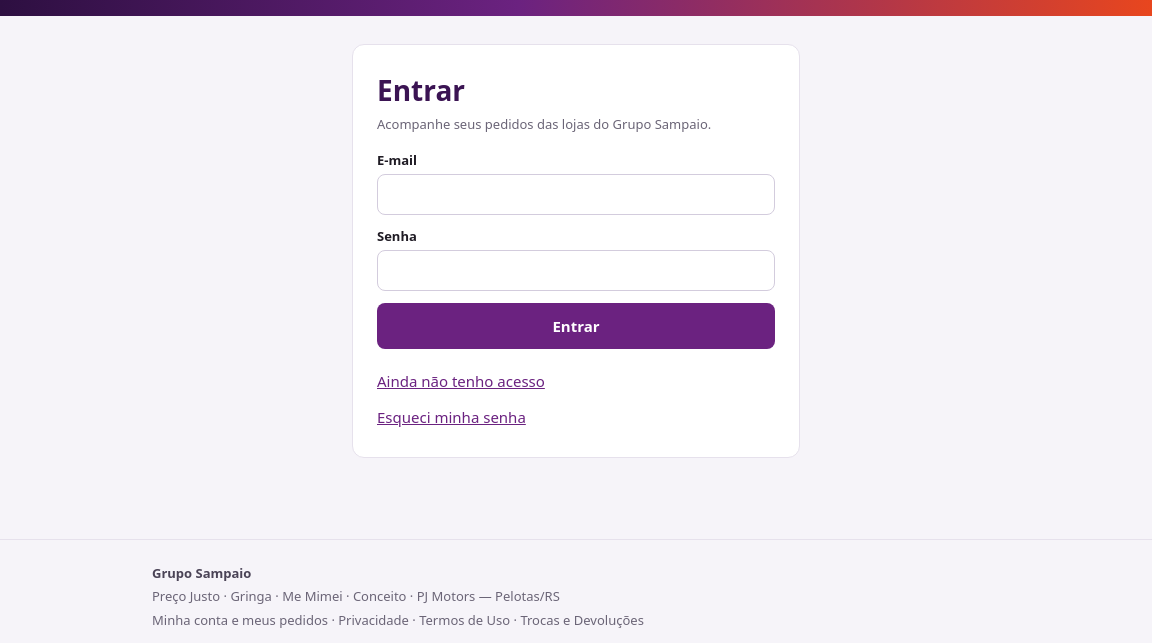
GAP-PRD-192 — criar conta › teto de cadastros da conexão: o 429 aparece com a frase do servidor
Click the button "Ainda não tenho acesso" at (461,381), box [377,365,545,397]
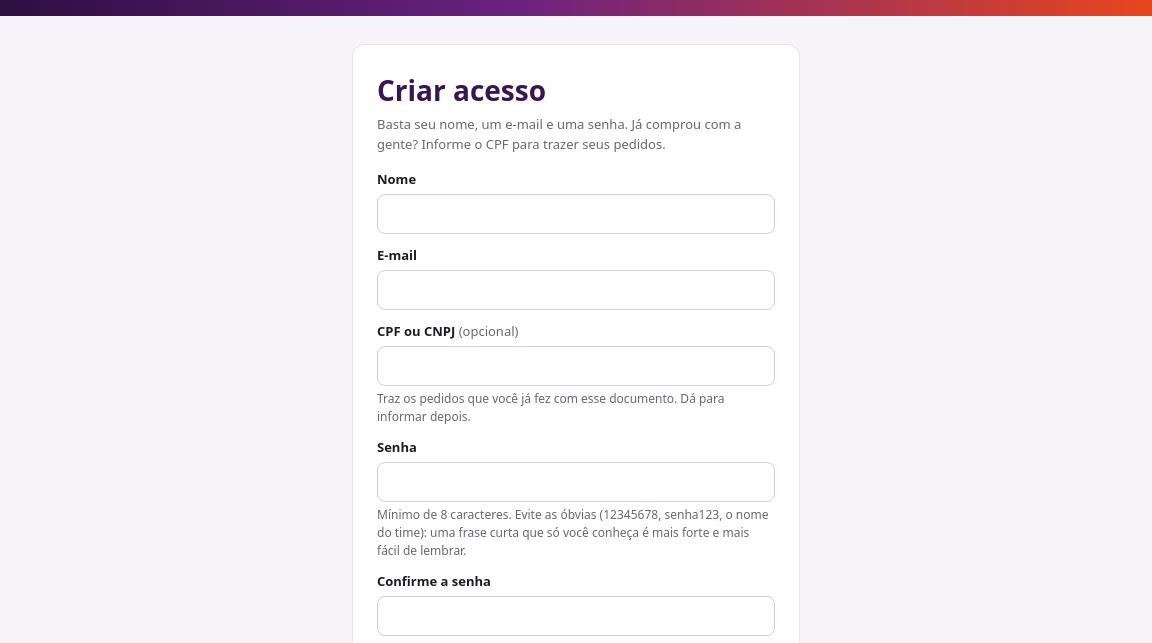
Type "Ana Souza" into the field labelled "Nome" at (576,214), box [377,194,775,234]
Type "ana@exemplo.com" into the field labelled "E-mail" at (576,290), box [377,270,775,310]
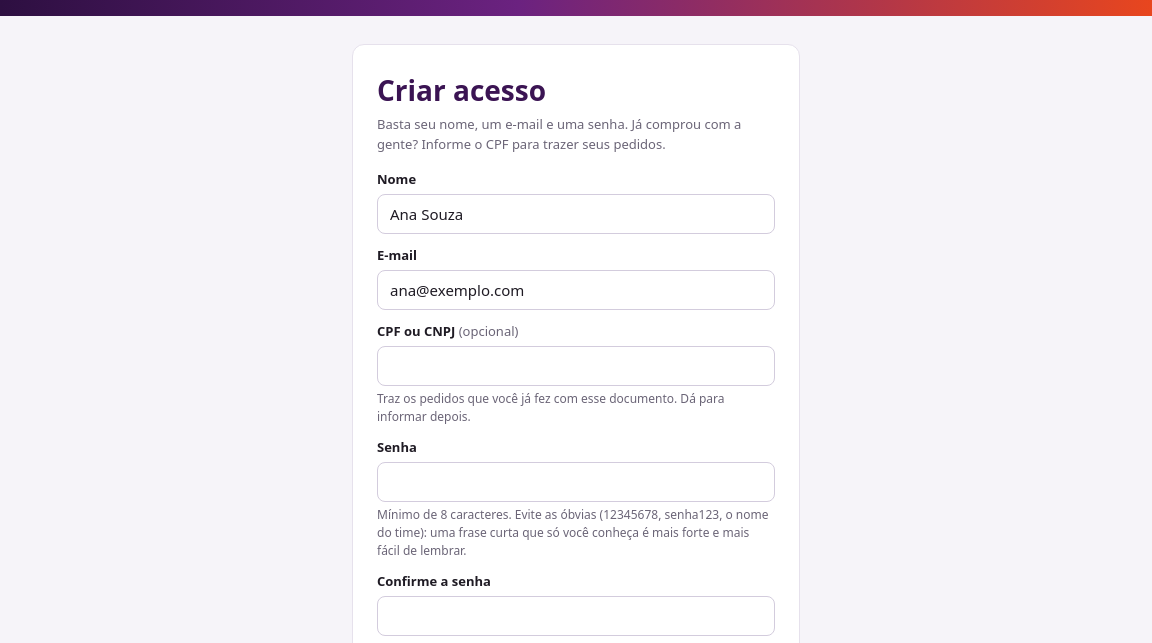
Type "cavalo-bateria-grampo" into the password field labelled "Senha" at (576,482), box [377,462,775,502]
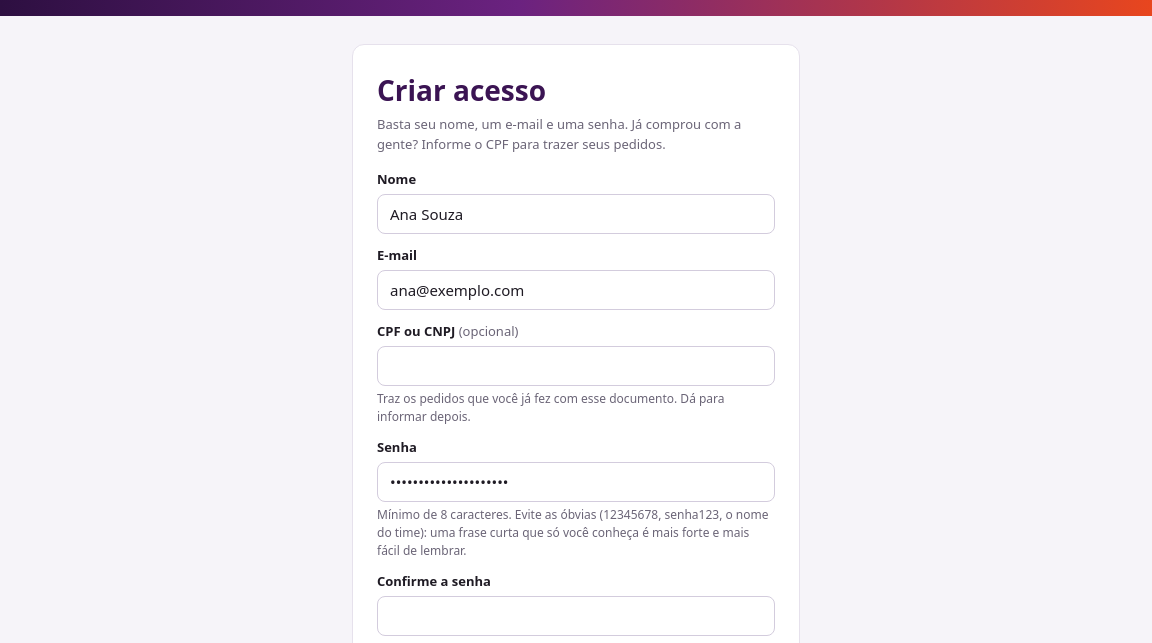
Type "cavalo-bateria-grampo" into the password field labelled "Confirme a senha" at (576,616), box [377,596,775,636]
(page scrolled)
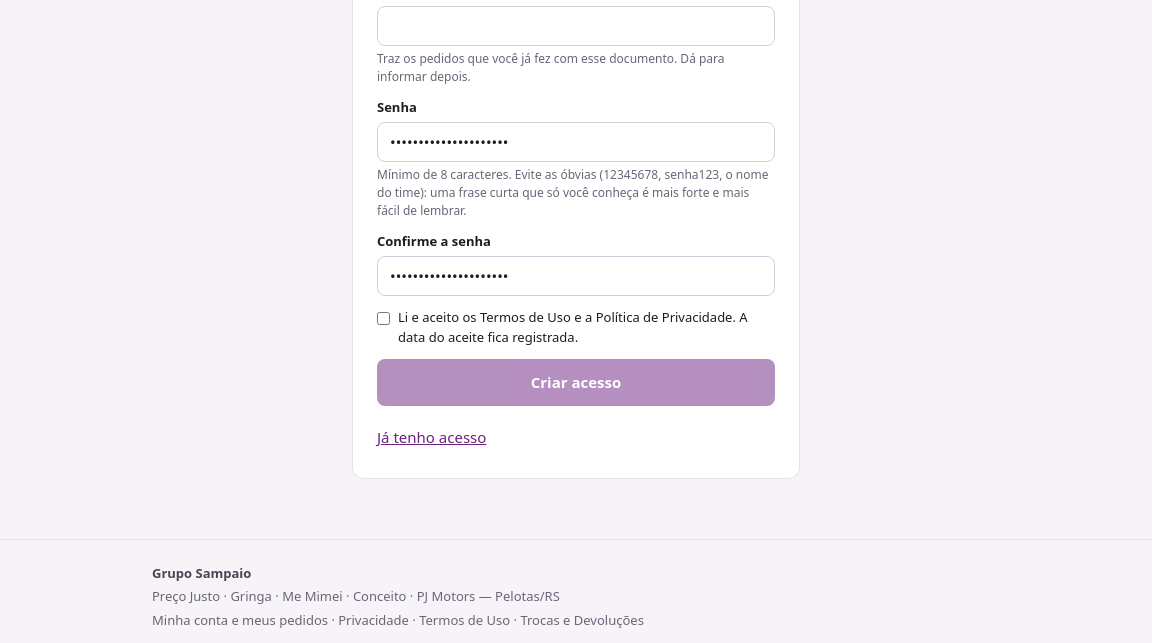
Click the checkbox named "Aceito os termos e a política de privacidade" at (384,318), box [377,312,390,325]
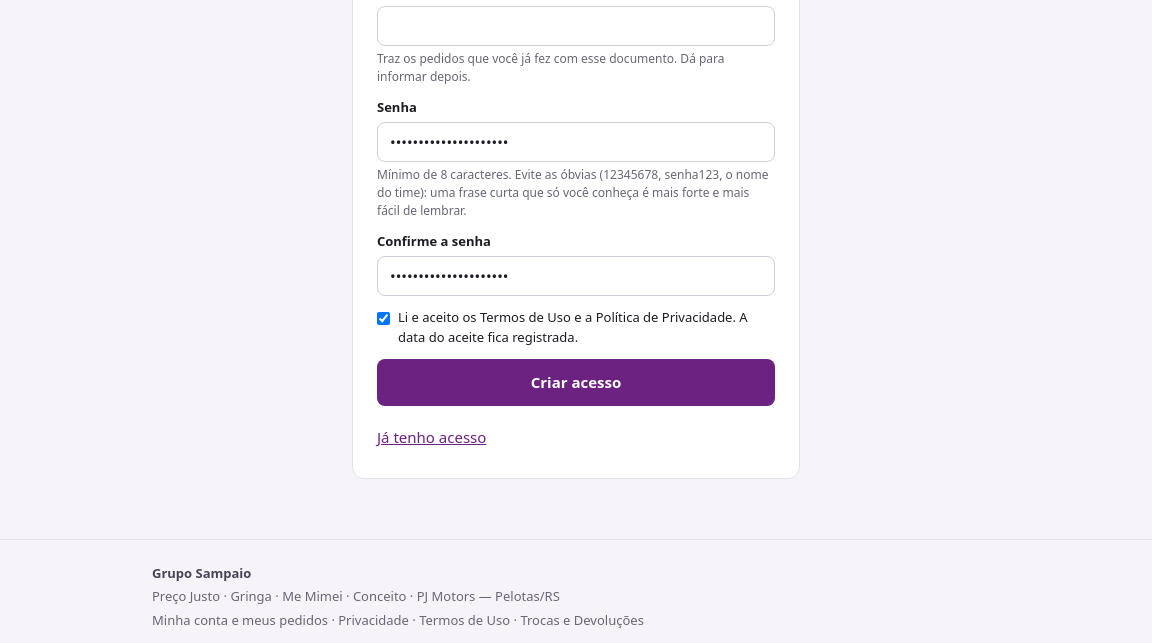
Click the button "Criar acesso" at (576,382), box [377,359,775,406]
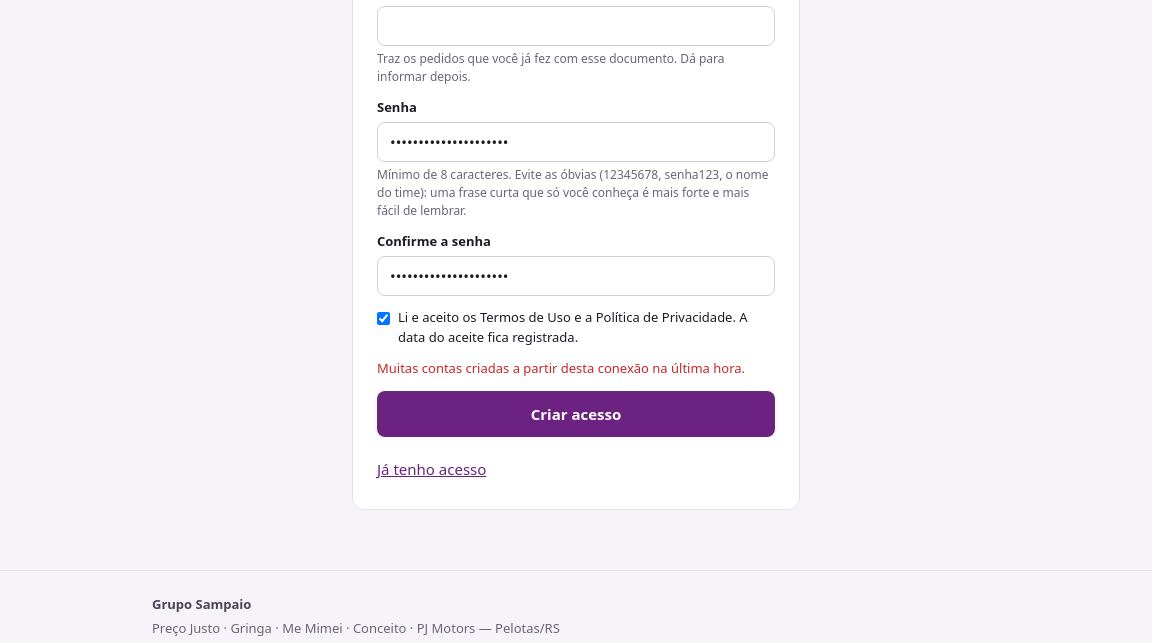
Expected: the text "Muitas contas criadas a partir desta conexão na última hora." is shown, [377,359,775,378]
